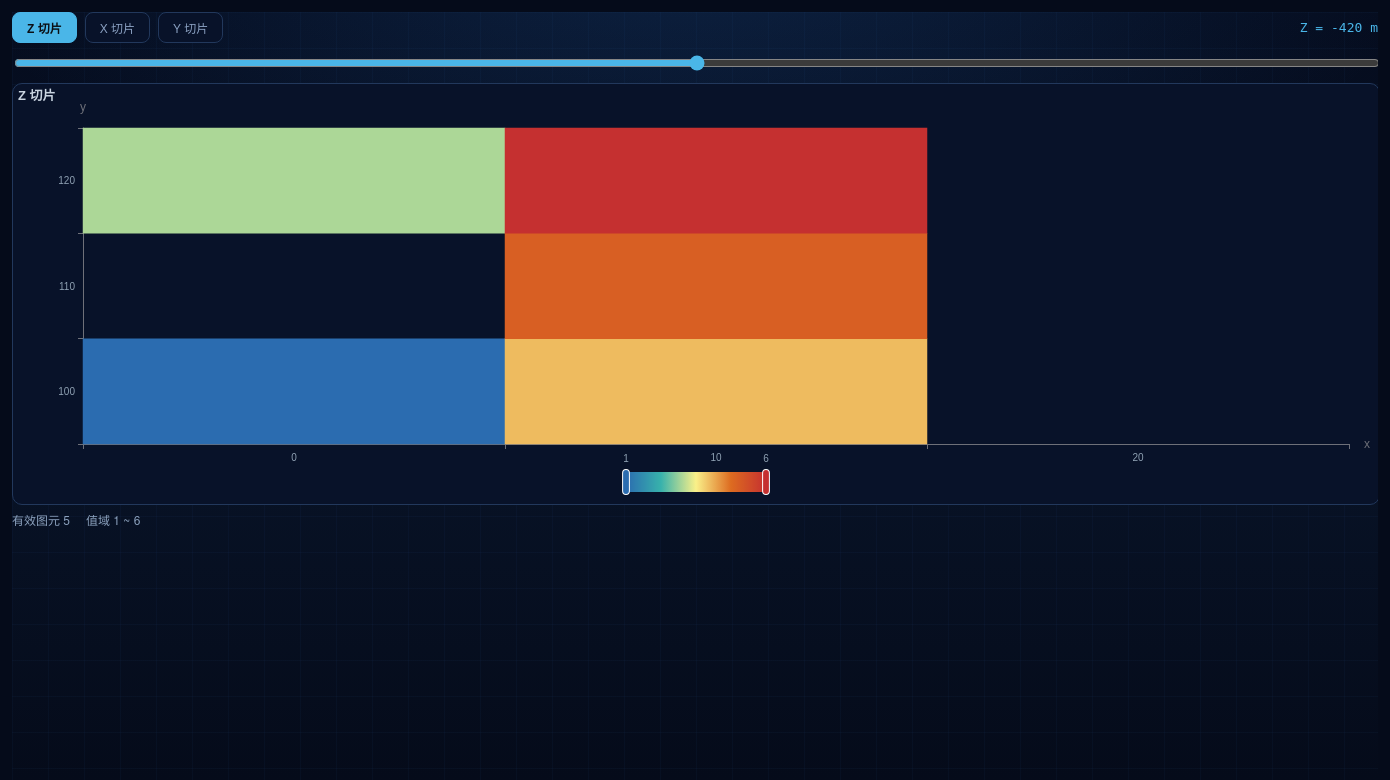
Test: SlicePanel › 切换轴向时向服务端请求新切片而不是浏览器重算
The image size is (1390, 780).
Click the button with test id "axis-x".
click(117, 28)  # box [85,12,150,43]
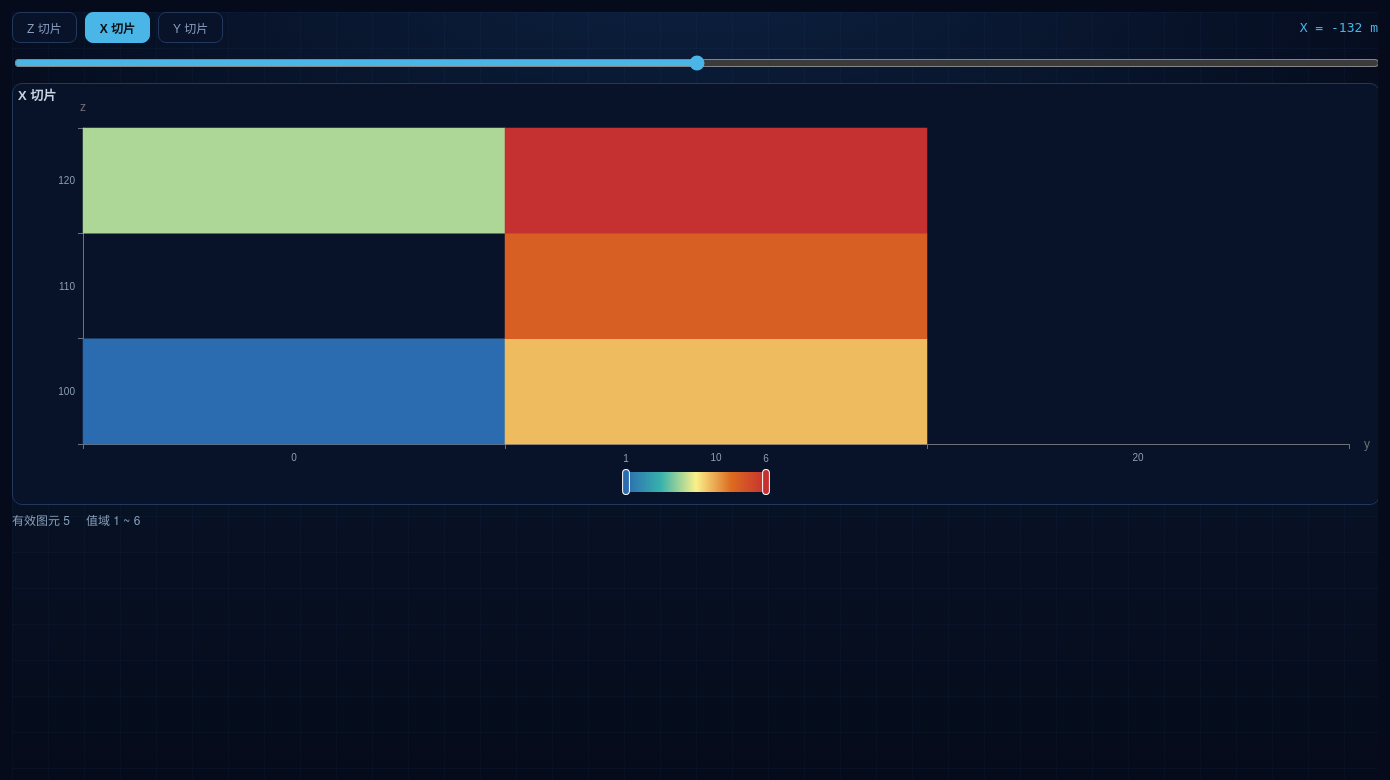
Expected: the text with test id "slice-label" reads "X = -132 m", [1300,20,1378,35]
Click the button with test id "axis-y".
click(191, 28)  # box [158,12,223,43]
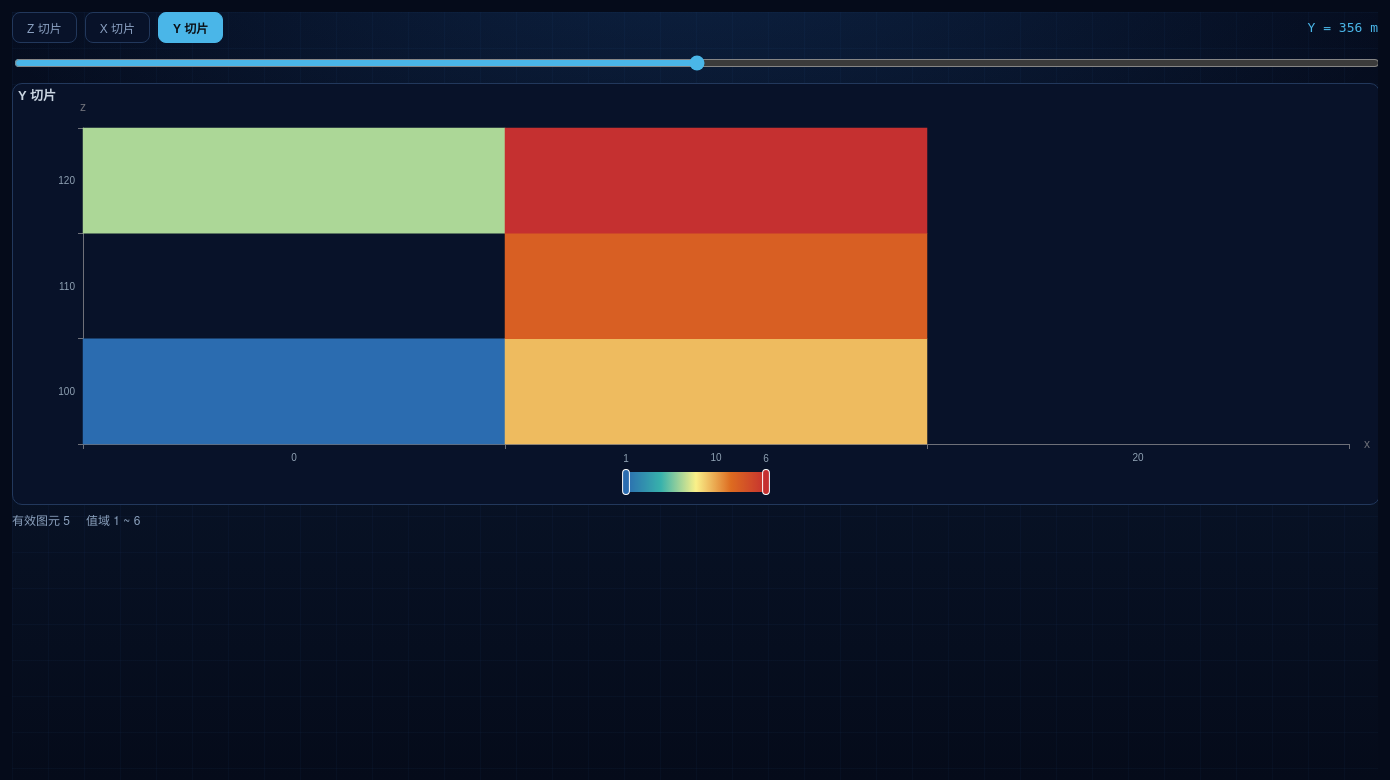
Expected: the text with test id "slice-label" reads "Y = 356 m", [1308,20,1378,35]
